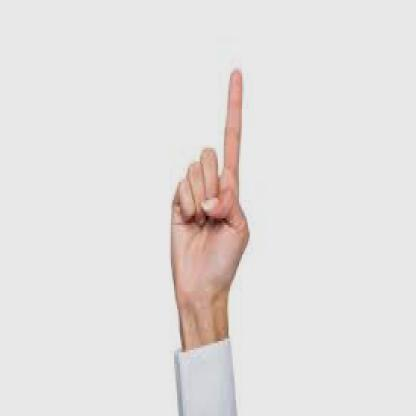Up: (164, 28, 267, 299)
